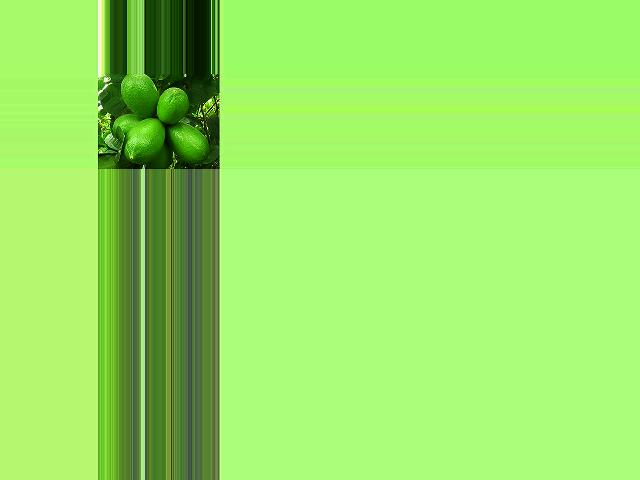lemon: (163, 121, 210, 163)
